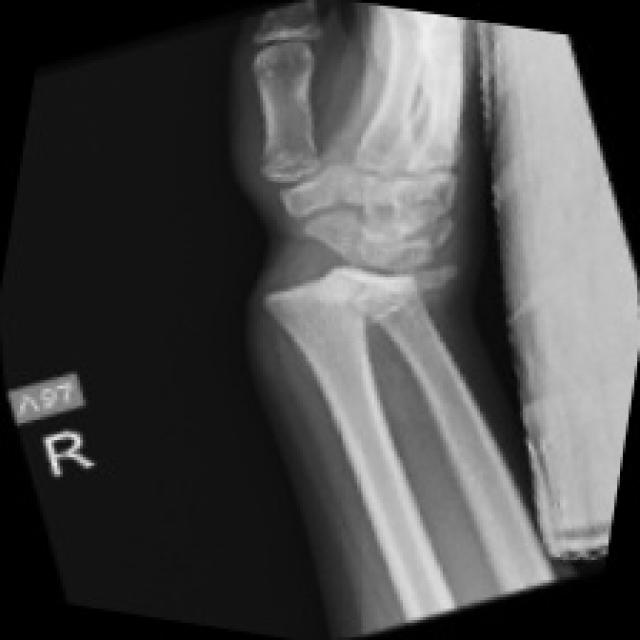fracture: (198, 125, 416, 372)
